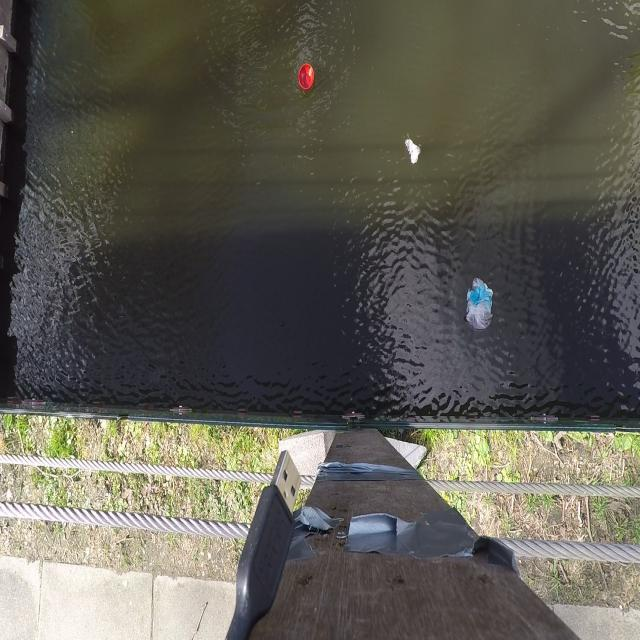Autre plastique: (295, 56, 318, 97)
Sac plastique: (461, 272, 500, 336), (403, 134, 423, 167)
